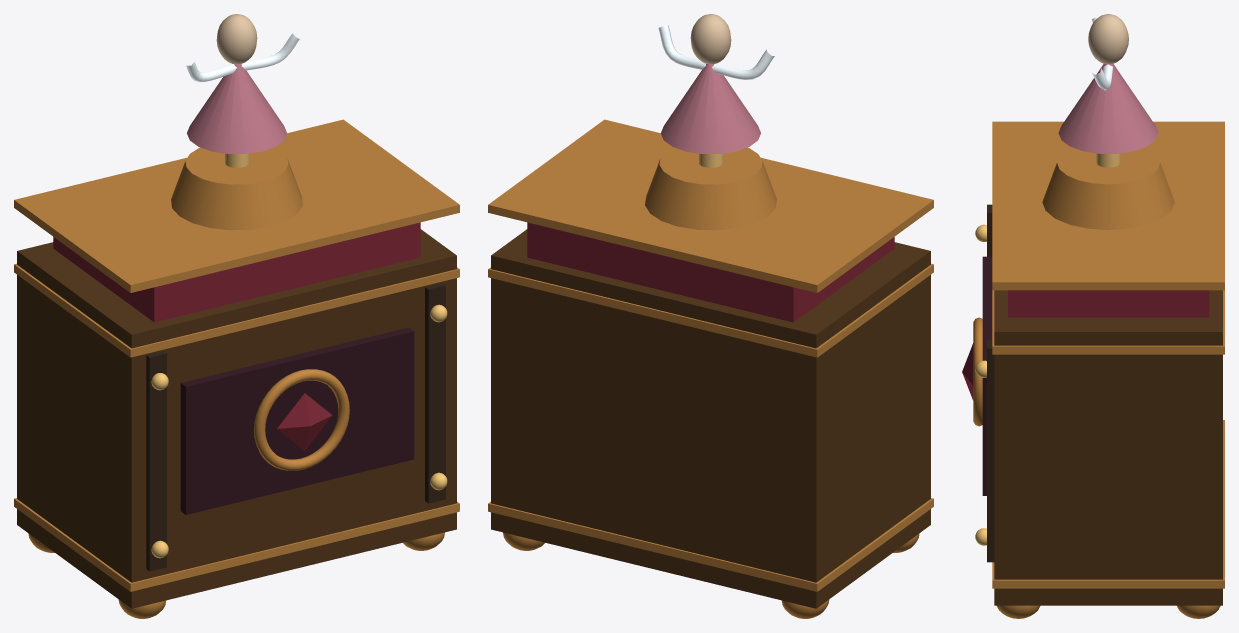
The model's file is mia-music_box.glb.
3 views of the same model, side by side, from view 1: azimuth 30°, elevation 25°; view 2: azimuth 150°, elevation 25°; view 3: azimuth 270°, elevation 25° (orthographic).
Visible parts, largest first — view 1: Body_wood, Body_brass, Body_dark, Body_velvet, Body_grain, Body_cake-rose, Body_face, Body_trim, Body_porcelain; view 2: Body_wood, Body_brass, Body_velvet, Body_cake-rose, Body_face, Body_porcelain; view 3: Body_wood, Body_brass, Body_velvet, Body_cake-rose, Body_grain, Body_face, Body_dark, Body_trim, Body_porcelain.
Boxes of the visible parts, box(x1,y1,x2,y2) form: Body_wood: box(17, 229, 456, 608); Body_brass: box(14, 119, 459, 618); Body_dark: box(180, 327, 414, 514); Body_velvet: box(53, 222, 420, 450); Body_grain: box(146, 283, 445, 571); Body_cake-rose: box(187, 63, 286, 153); Body_face: box(216, 14, 257, 64); Body_trim: box(151, 153, 447, 558); Body_porcelain: box(186, 33, 299, 82); Body_wood: box(491, 229, 930, 608); Body_brass: box(488, 119, 933, 618); Body_velvet: box(527, 222, 894, 322); Body_cake-rose: box(661, 64, 760, 153); Body_face: box(690, 14, 731, 64); Body_porcelain: box(658, 25, 774, 79); Body_wood: box(994, 290, 1222, 605); Body_brass: box(973, 121, 1224, 618); Body_velvet: box(962, 290, 1209, 400); Body_cake-rose: box(1058, 63, 1158, 153); Body_grain: box(987, 204, 994, 562); Body_face: box(1088, 14, 1128, 64); Body_dark: box(982, 256, 992, 495); Body_trim: box(975, 153, 1120, 545); Body_porcelain: box(1091, 16, 1112, 90).
Bounding box in the file's own units: 0.78 × 1.21 × 0.5401.
